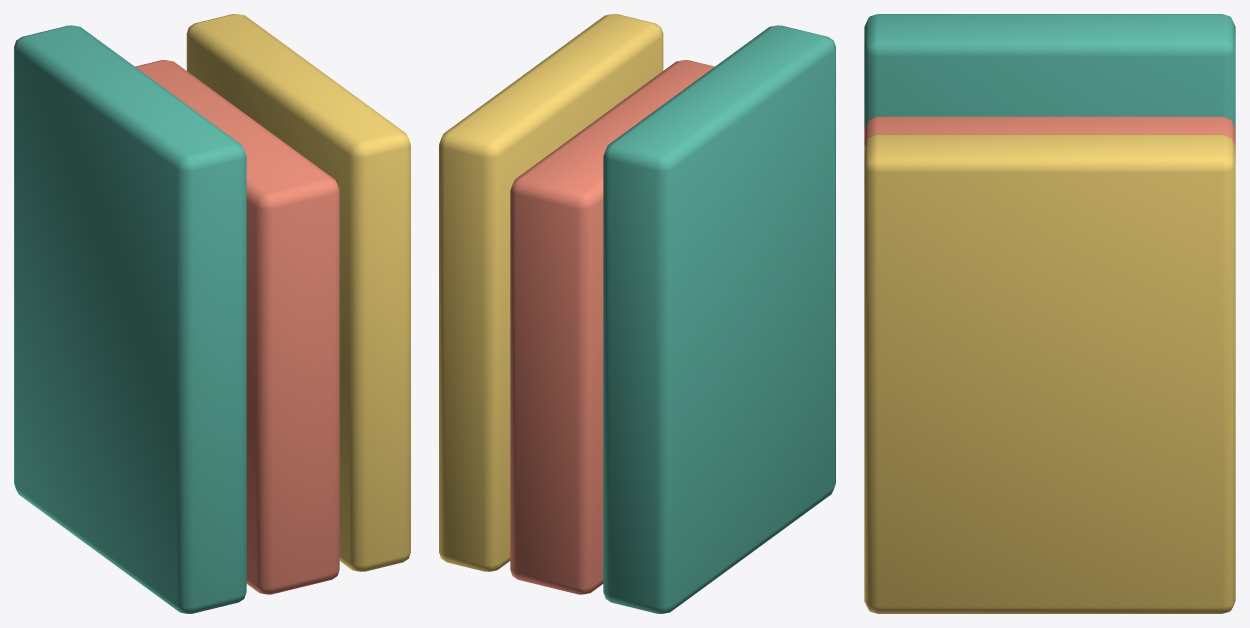
Rendered from books_a.glb.
The picture shows the model from 3 angles, left to right: view 1: azimuth 30°, elevation 25°; view 2: azimuth 150°, elevation 25°; view 3: azimuth 270°, elevation 25°; orthographic projection. The views are drawn at different scales.
Visible parts, largest first — view 1: body; view 2: body; view 3: body.
Boxes of the visible parts, left/top/right/bottom form: body: left=14, top=14, right=410, bottom=613; body: left=439, top=14, right=835, bottom=613; body: left=864, top=14, right=1235, bottom=613.
Size of the model in its own units: 0.085 by 0.16 by 0.11.
